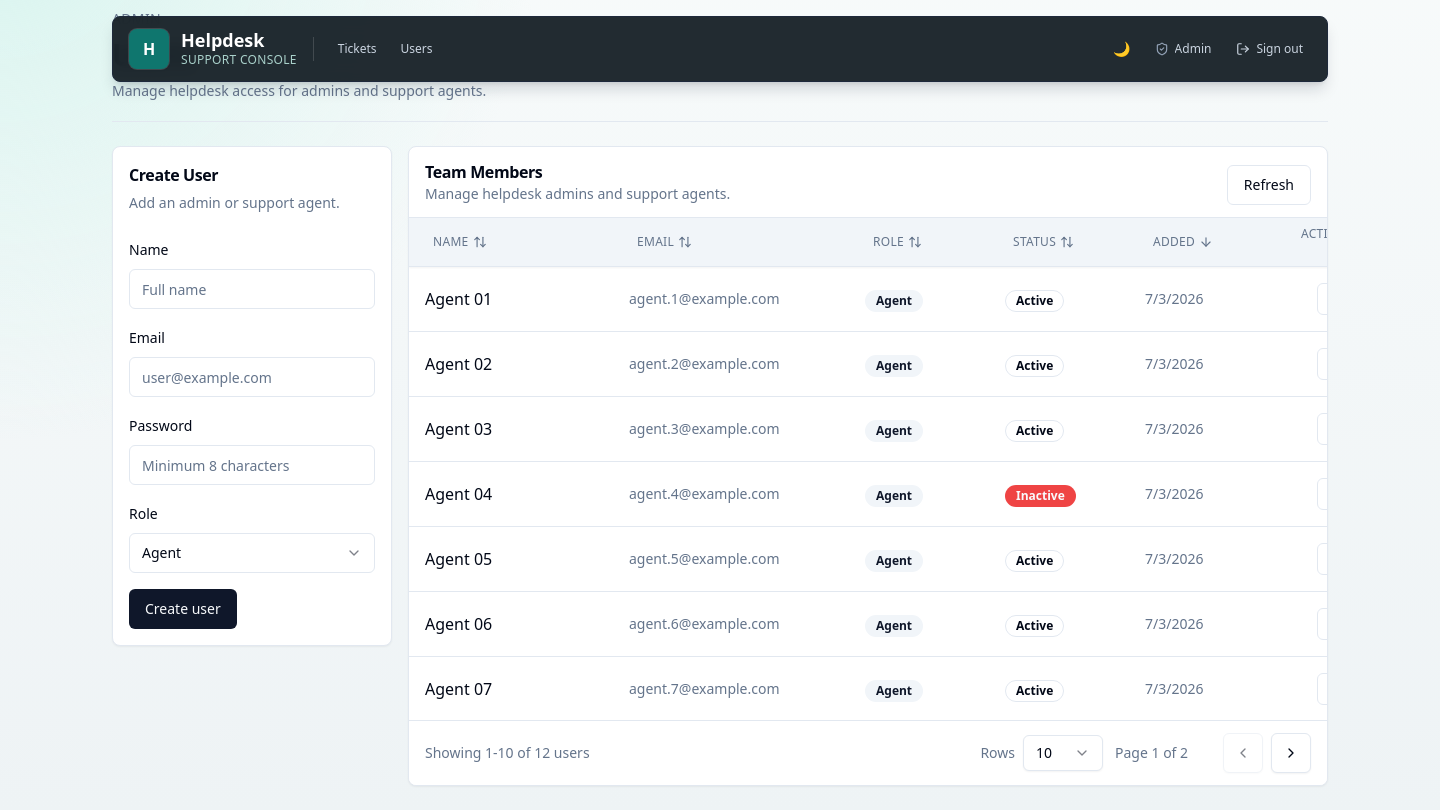
Test: Users page › user list paginates longer result sets
(page scrolled)
Check: the text "Showing 1-10 of 12 users" is shown, box [425,743,590,763]
Check: the heading "Agent 01" is shown, box [425,287,492,311]
What coordinates should you click on to do the following:
click the button named "Next users page"
I would click on:
 (1291, 753)
Its box is [1271,733,1311,773].
(page scrolled)
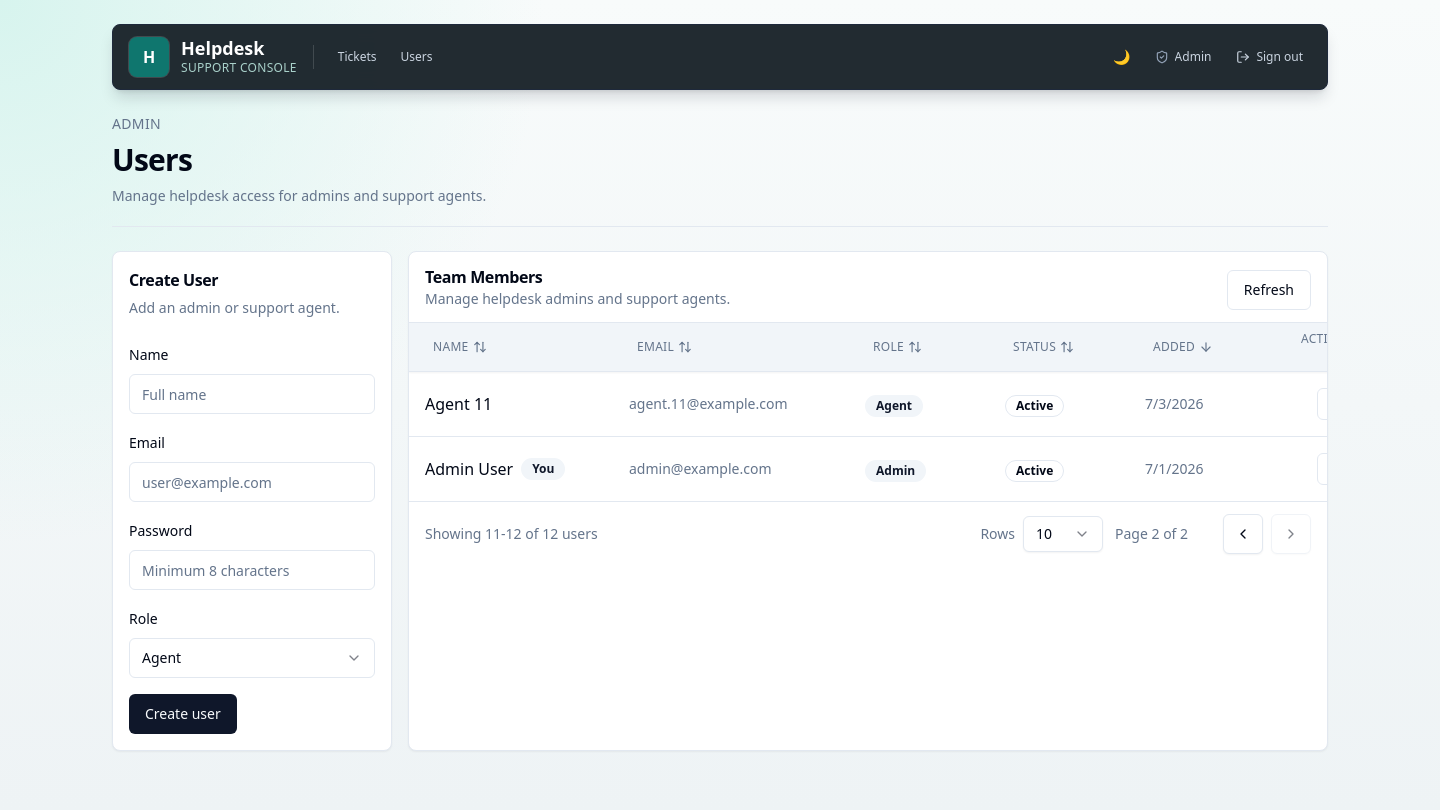
Check: the text "Showing 11-12 of 12 users" is shown, box [425,524,598,544]
Check: the element showing "Agent 11 agent.11@example.com Agent Active 7/3/2026" is shown, box [425,388,1327,420]
Check: the element showing "Admin User You admin@example.com Admin Active 7/1/2026" is shown, box [409,436,1327,501]
